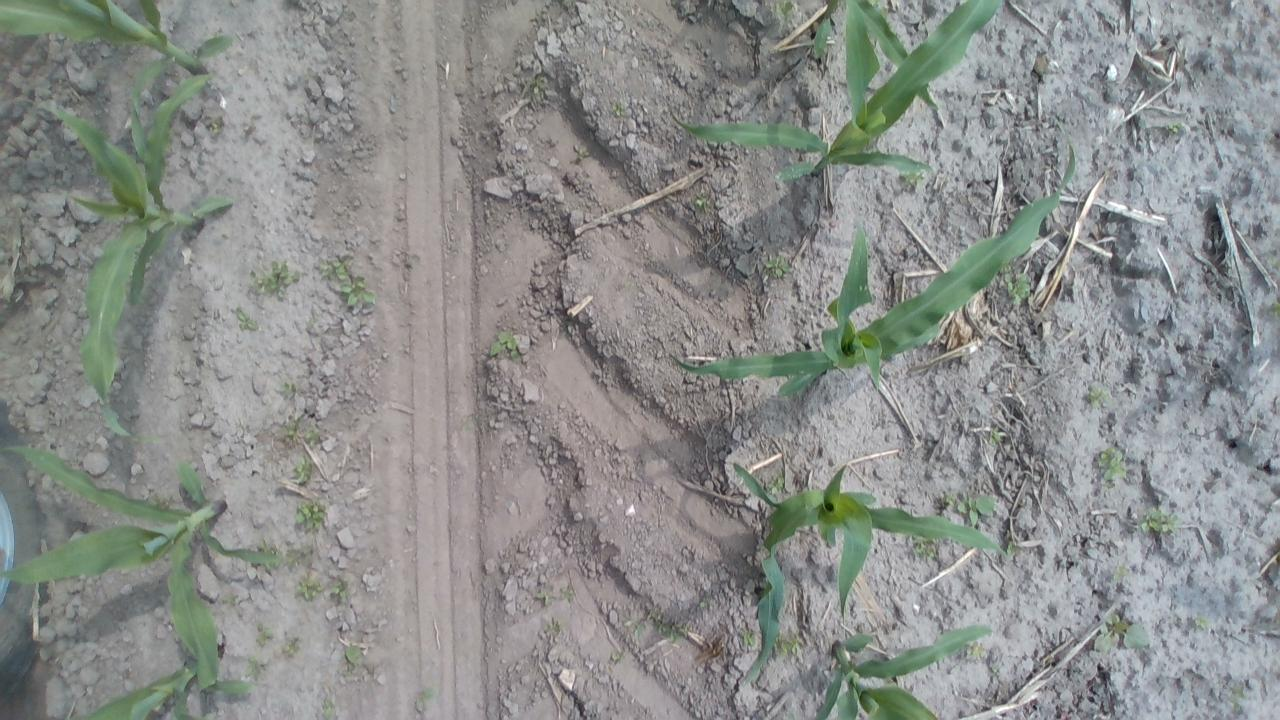Maize: (668, 112, 1085, 400), (29, 60, 248, 439), (0, 438, 286, 690), (668, 0, 1019, 186), (727, 461, 1004, 693), (0, 0, 246, 168), (813, 617, 1002, 718), (814, 0, 946, 124), (66, 638, 264, 720)
Weeds: (317, 252, 378, 310), (248, 256, 304, 303), (1092, 612, 1153, 654), (630, 606, 689, 644), (940, 492, 1001, 526), (1092, 446, 1128, 490), (530, 580, 582, 607), (998, 264, 1032, 305), (969, 643, 1007, 679), (1138, 508, 1184, 537), (292, 498, 330, 532), (487, 332, 525, 362), (339, 644, 368, 680), (1085, 380, 1115, 410), (910, 534, 944, 560), (286, 541, 316, 570), (764, 254, 800, 278), (766, 464, 790, 498), (282, 412, 304, 448), (296, 575, 322, 605), (289, 456, 315, 486), (278, 636, 310, 659), (1104, 562, 1130, 589), (234, 306, 258, 334), (244, 655, 268, 681), (329, 574, 352, 601), (254, 623, 276, 651), (772, 638, 804, 657), (276, 381, 302, 404), (897, 167, 924, 189), (736, 628, 759, 653), (203, 114, 226, 138), (413, 686, 438, 708), (318, 693, 338, 720), (1231, 684, 1250, 712), (688, 190, 714, 210), (774, 0, 796, 23), (1161, 115, 1185, 136), (526, 73, 548, 95), (1002, 538, 1026, 558), (570, 144, 596, 162), (606, 644, 626, 666), (610, 96, 629, 119), (1192, 613, 1214, 632), (220, 592, 243, 610), (1263, 296, 1280, 318), (146, 495, 178, 506), (256, 541, 280, 555), (306, 428, 322, 449), (544, 620, 564, 636), (1266, 255, 1280, 276), (988, 428, 1002, 447), (303, 314, 319, 327), (694, 597, 712, 607)
